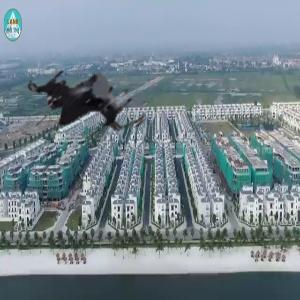drone: (14, 51, 133, 170)
